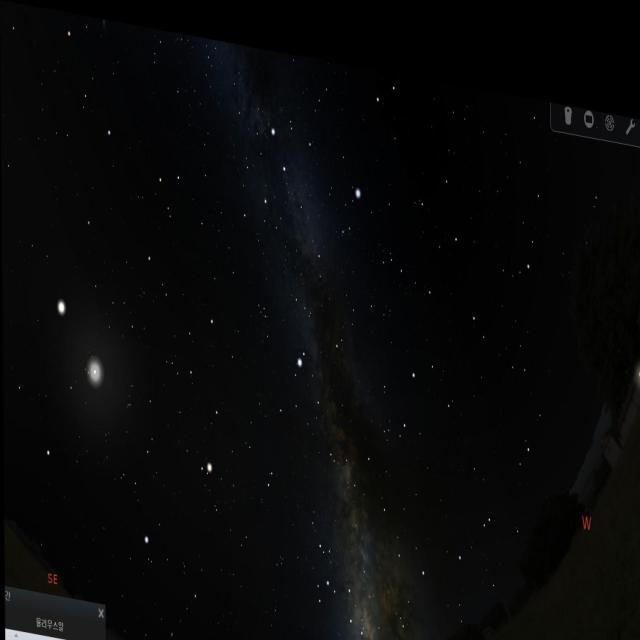aquila: (268, 330, 344, 460)
cygnus: (260, 112, 326, 279)
lyra: (333, 160, 363, 249)
moon: (76, 344, 114, 406)
sagittarius: (317, 554, 369, 640)
